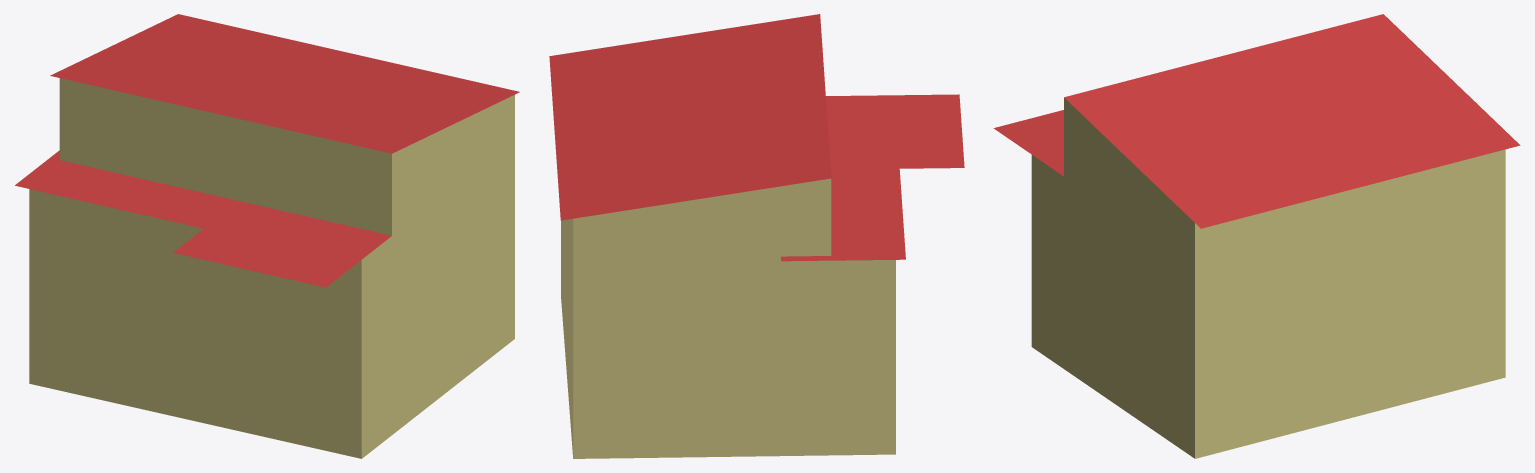
The picture shows the model from 3 angles, left to right: view 1: azimuth 30°, elevation 25°; view 2: azimuth 150°, elevation 25°; view 3: azimuth 270°, elevation 25°; orthographic projection. The views are drawn at different scales.
Bounding box in the file's own units: 18.39 × 20.18 × 11.47.
